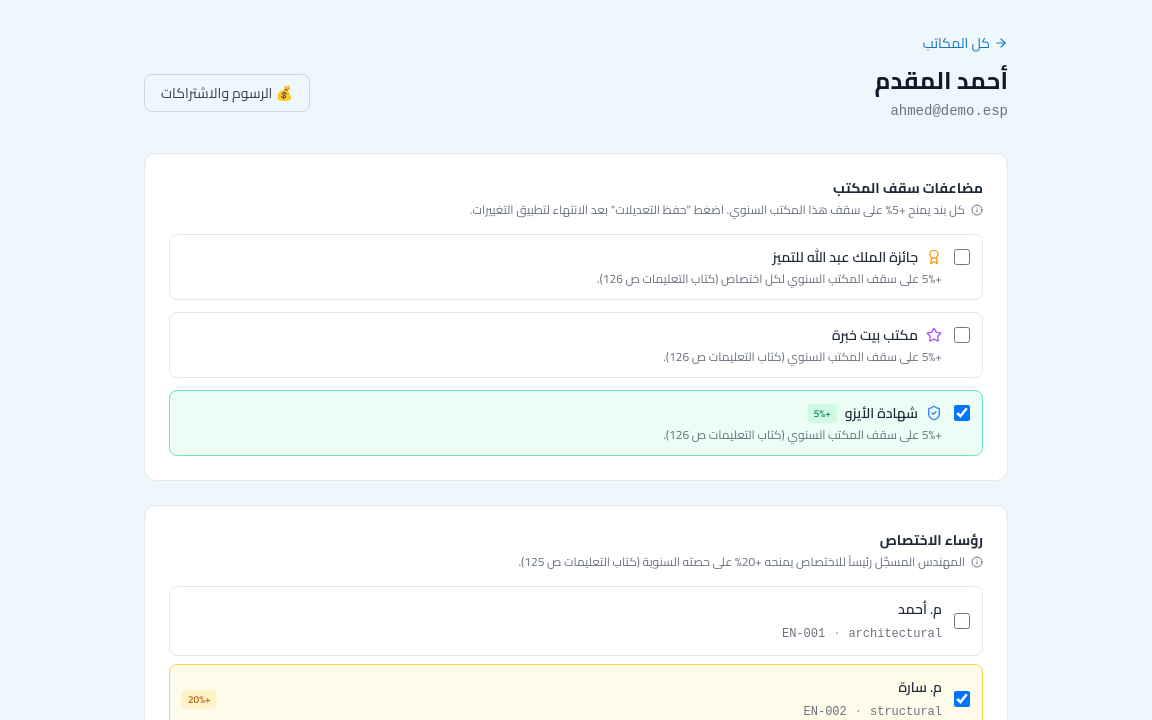
Scenario: OfficeSettings (JORD-77) › revert clears every draft and hides the save bar
Expected: the label with test id "office-flag-is_bit_khibra" is shown, [169, 312, 983, 378]
Click the 2nd checkbox at [962, 335], box [954, 327, 970, 343]
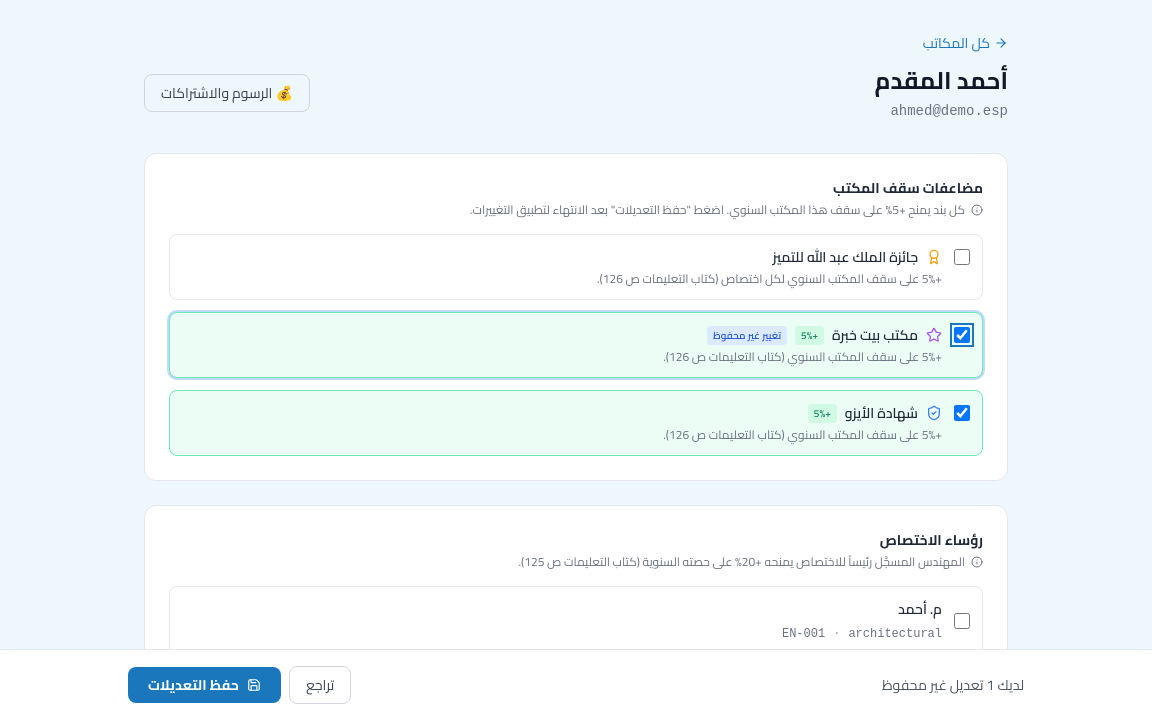
Now the element with test id "save-bar" is shown, box [0, 649, 1151, 719]
Click the button with test id "reset-btn" at [320, 685], box [289, 666, 351, 704]
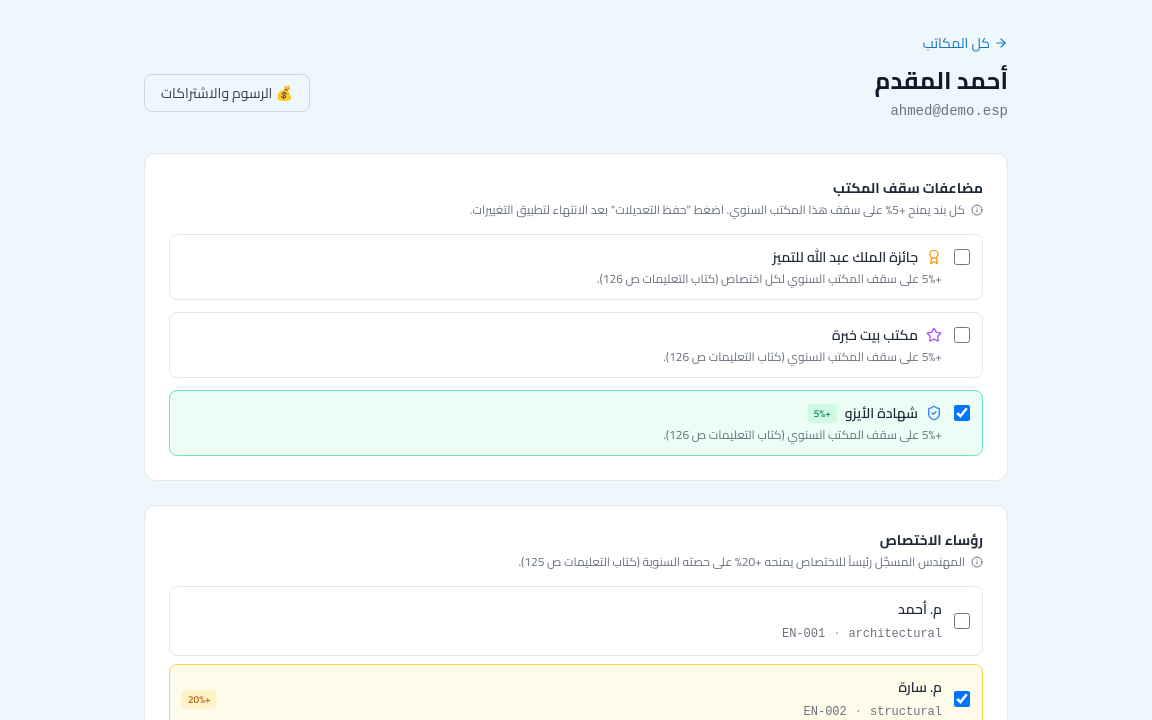
Now the element with test id "save-bar" is gone
